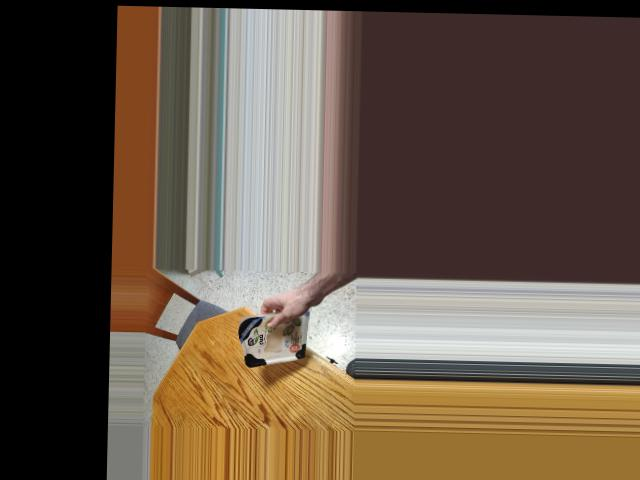cheese: (236, 303, 311, 369)
